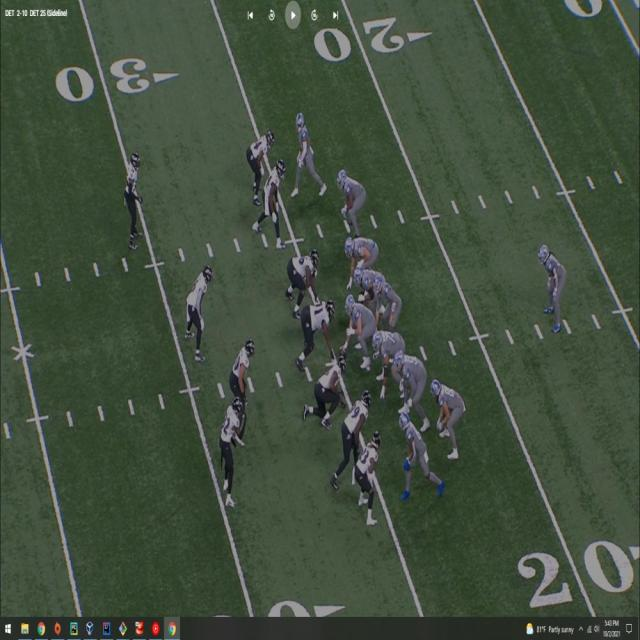center: (346, 297, 372, 358)
db: (352, 429, 382, 525), (222, 394, 240, 502), (248, 128, 273, 196), (128, 149, 142, 247)
lb: (184, 264, 212, 355), (342, 390, 369, 459), (265, 156, 287, 226), (228, 340, 255, 395)
qb: (377, 276, 402, 328)
skill: (399, 409, 445, 497), (537, 242, 568, 331), (432, 379, 465, 459), (294, 109, 320, 195), (338, 168, 366, 227)
